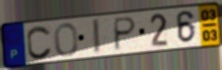2: (149, 12, 170, 48)
6: (175, 10, 198, 45)
C: (26, 25, 53, 61)
I: (91, 17, 102, 56)
O: (53, 22, 79, 59)
P: (113, 15, 138, 52)
